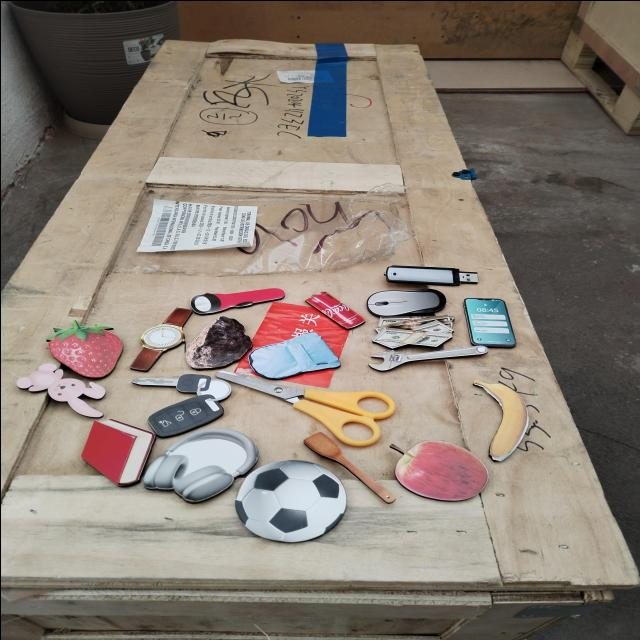Other Objects: (206, 357, 388, 452), (234, 461, 345, 542), (141, 428, 258, 502), (300, 427, 397, 511), (111, 300, 209, 375), (131, 374, 229, 435), (390, 439, 488, 500), (241, 327, 341, 383), (16, 363, 103, 417), (365, 334, 488, 372), (473, 380, 527, 461), (184, 276, 286, 317), (184, 315, 251, 368), (371, 315, 454, 348), (462, 297, 515, 347), (304, 291, 363, 328), (367, 289, 443, 315), (385, 265, 477, 283)
